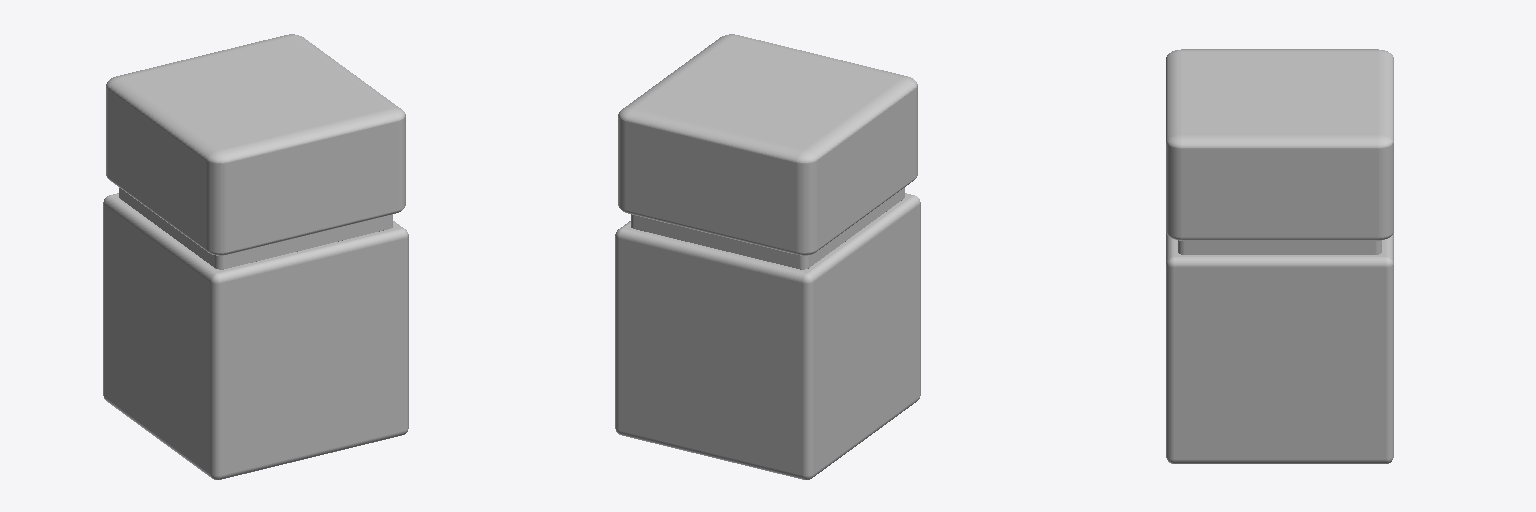
The model's file is shortDarkFlatSquare.obj.
3 renders of one model, left to right at view 1: azimuth 30°, elevation 25°; view 2: azimuth 150°, elevation 25°; view 3: azimuth 270°, elevation 25°, orthographic.
Parts seen in each view (by area): view 1: Cube_Cube.002, Cube.002_Cube.001, Cube.001_Cube.003; view 2: Cube_Cube.002, Cube.002_Cube.001, Cube.001_Cube.003; view 3: Cube_Cube.002, Cube.002_Cube.001, Cube.001_Cube.003.
Part boxes in pixels (x1,y1,x2,y2): Cube_Cube.002: (103, 193, 408, 479); Cube.002_Cube.001: (106, 34, 405, 255); Cube.001_Cube.003: (119, 188, 392, 269); Cube_Cube.002: (615, 193, 920, 479); Cube.002_Cube.001: (618, 34, 917, 255); Cube.001_Cube.003: (631, 188, 904, 269); Cube_Cube.002: (1166, 233, 1393, 463); Cube.002_Cube.001: (1166, 49, 1393, 240); Cube.001_Cube.003: (1178, 240, 1381, 254).
Size of the model in its own units: 2 by 3.15 by 2.